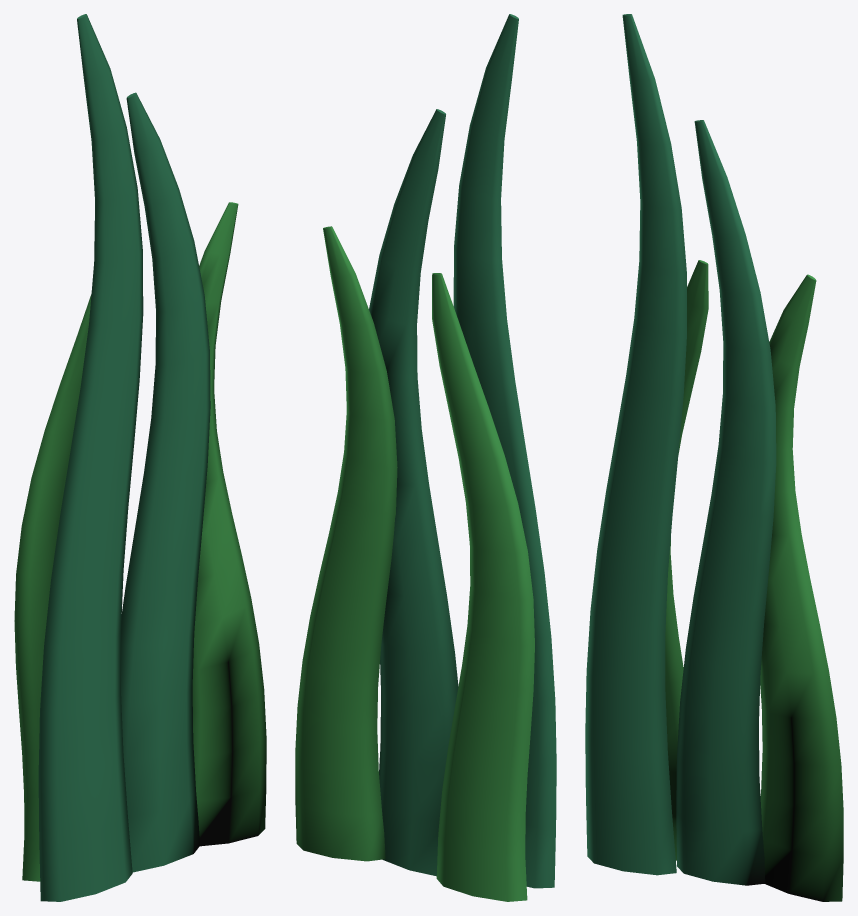
Rendered from seaweed_a.glb.
The picture shows the model from 3 angles, left to right: view 1: azimuth 30°, elevation 25°; view 2: azimuth 150°, elevation 25°; view 3: azimuth 330°, elevation 25°; orthographic projection. The views are drawn at different scales.
Parts seen in each view (by area): view 1: seaweed_a_mesh; view 2: seaweed_a_mesh; view 3: seaweed_a_mesh.
Boxes of the visible parts, x1=… form: seaweed_a_mesh: x1=14, y1=14, x2=266, y2=901; seaweed_a_mesh: x1=295, y1=14, x2=556, y2=901; seaweed_a_mesh: x1=585, y1=14, x2=843, y2=901.
Size of the model in its own units: 0.9686 by 3.28 by 0.2822.
